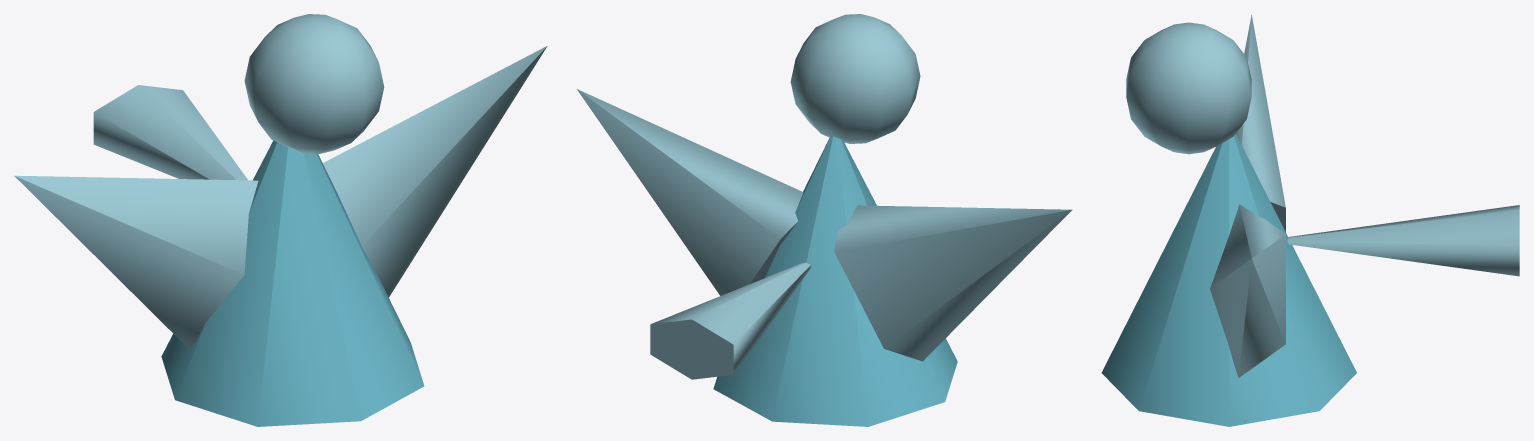
File: wind_monster_2.glb
3 renders of one model, left to right at view 1: azimuth 30°, elevation 25°; view 2: azimuth 150°, elevation 25°; view 3: azimuth 270°, elevation 25°, orthographic. The views are drawn at different scales.
Parts seen in each view (by area): view 1: CoreBody, Wing_-1, Wing_1, Head, MOTIF_wind_tail; view 2: CoreBody, Wing_-1, Wing_1, Head, MOTIF_wind_tail; view 3: CoreBody, Head, MOTIF_wind_tail, Wing_1, Wing_-1.
Part boxes in pixels (<box>): CoreBody: <box>161,140,424,426</box>; Wing_-1: <box>14,175,258,348</box>; Wing_1: <box>323,46,547,297</box>; Head: <box>244,14,384,153</box>; MOTIF_wind_tail: <box>93,85,247,180</box>; CoreBody: <box>713,136,957,426</box>; Wing_-1: <box>834,205,1072,361</box>; Wing_1: <box>577,89,803,295</box>; Head: <box>790,14,920,143</box>; MOTIF_wind_tail: <box>650,262,810,379</box>; CoreBody: <box>1101,134,1356,426</box>; Head: <box>1126,22,1251,154</box>; MOTIF_wind_tail: <box>1287,205,1519,276</box>; Wing_1: <box>1210,204,1285,377</box>; Wing_-1: <box>1236,15,1285,231</box>.
Bounding box in the file's own units: 2.58 × 1.7 × 1.87.
